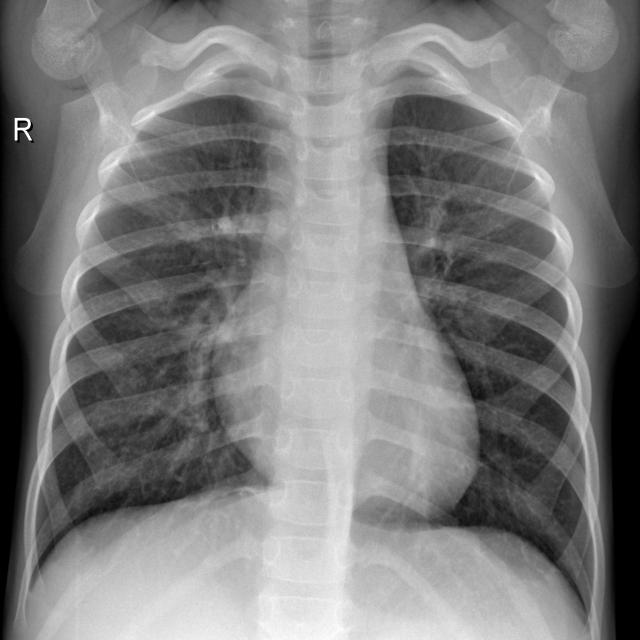no-pneumonia: (29, 95, 281, 575), (389, 95, 600, 607)
